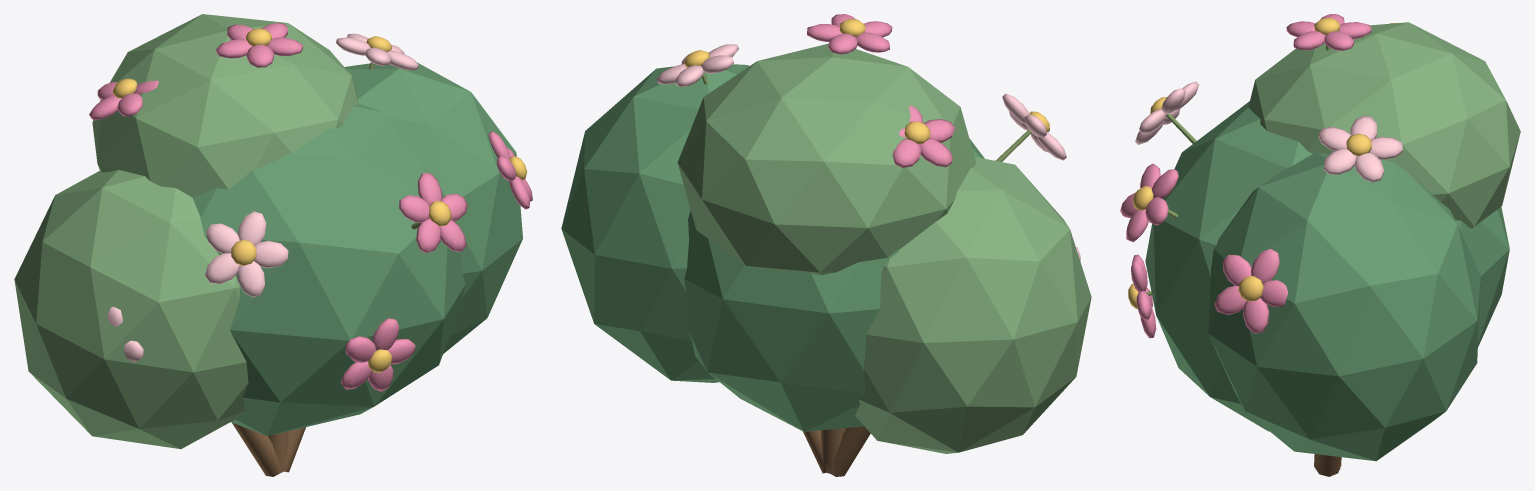
Rendered from bush_pink_flowering.glb.
The picture shows the model from 3 angles, left to right: view 1: azimuth 30°, elevation 25°; view 2: azimuth 150°, elevation 25°; view 3: azimuth 270°, elevation 25°; orthographic projection. The views are drawn at different scales.
Visible parts, largest first — view 1: Flowering_Bush_Leaf_Mass_0, Flowering_Bush_Leaf_Mass_1, Flowering_Bush_Leaf_Mass_3, Flowering_Bush_Leaf_Mass_2, Flowering_Bush_Branch_1, Flowering_Bush_Blossom_00_Petal_3, Flowering_Bush_Blossom_00_Petal_4, Flowering_Bush_Blossom_00_Petal_0, Flowering_Bush_Blossom_00_Petal_2, Flowering_Bush_Blossom_00_Petal_1, Flowering_Bush_Blossom_01_Petal_2, Flowering_Bush_Blossom_01_Petal_3 (+6 smaller); view 2: Flowering_Bush_Leaf_Mass_3, Flowering_Bush_Leaf_Mass_1, Flowering_Bush_Leaf_Mass_2, Flowering_Bush_Leaf_Mass_0, Flowering_Bush_Branch_1, Flowering_Bush_Branch_3, Flowering_Bush_Blossom_07_Petal_4, Flowering_Bush_Blossom_07_Petal_3; view 3: Flowering_Bush_Leaf_Mass_2, Flowering_Bush_Leaf_Mass_3, Flowering_Bush_Leaf_Mass_0, Flowering_Bush_Blossom_02_Petal_4, Flowering_Bush_Blossom_02_Petal_1, Flowering_Bush_Blossom_06_Petal_3, Flowering_Bush_Blossom_06_Petal_4, Flowering_Bush_Blossom_02_Petal_3, Flowering_Bush_Blossom_02_Petal_2, Flowering_Bush_Blossom_06_Petal_0, Flowering_Bush_Blossom_02_Petal_0, Flowering_Bush_Blossom_06_Petal_2 (+9 smaller).
Boxes of the visible parts, bbox=[...] form: Flowering_Bush_Leaf_Mass_0: bbox=[192, 104, 465, 435]; Flowering_Bush_Leaf_Mass_1: bbox=[14, 169, 248, 449]; Flowering_Bush_Leaf_Mass_3: bbox=[92, 14, 358, 197]; Flowering_Bush_Leaf_Mass_2: bbox=[344, 62, 522, 353]; Flowering_Bush_Branch_1: bbox=[232, 423, 282, 476]; Flowering_Bush_Blossom_00_Petal_3: bbox=[205, 253, 239, 283]; Flowering_Bush_Blossom_00_Petal_4: bbox=[237, 261, 265, 296]; Flowering_Bush_Blossom_00_Petal_0: bbox=[254, 240, 288, 268]; Flowering_Bush_Blossom_00_Petal_2: bbox=[206, 223, 239, 253]; Flowering_Bush_Blossom_00_Petal_1: bbox=[238, 211, 266, 245]; Flowering_Bush_Blossom_01_Petal_2: bbox=[399, 195, 429, 222]; Flowering_Bush_Blossom_01_Petal_3: bbox=[416, 218, 441, 253]; Flowering_Bush_Leaf_Mass_3: bbox=[677, 43, 975, 275]; Flowering_Bush_Leaf_Mass_1: bbox=[855, 157, 1091, 453]; Flowering_Bush_Leaf_Mass_2: bbox=[561, 64, 749, 382]; Flowering_Bush_Leaf_Mass_0: bbox=[684, 138, 984, 431]; Flowering_Bush_Branch_1: bbox=[826, 426, 870, 476]; Flowering_Bush_Branch_3: bbox=[821, 428, 846, 474]; Flowering_Bush_Blossom_07_Petal_4: bbox=[919, 138, 952, 167]; Flowering_Bush_Blossom_07_Petal_3: bbox=[892, 138, 921, 167]; Flowering_Bush_Leaf_Mass_2: bbox=[1208, 152, 1480, 461]; Flowering_Bush_Leaf_Mass_3: bbox=[1248, 22, 1520, 228]; Flowering_Bush_Leaf_Mass_0: bbox=[1145, 101, 1509, 431]; Flowering_Bush_Blossom_02_Petal_4: bbox=[1243, 298, 1269, 333]; Flowering_Bush_Blossom_02_Petal_1: bbox=[1251, 249, 1279, 283]; Flowering_Bush_Blossom_06_Petal_3: bbox=[1323, 148, 1356, 174]; Flowering_Bush_Blossom_06_Petal_4: bbox=[1354, 152, 1383, 182]; Flowering_Bush_Blossom_02_Petal_3: bbox=[1214, 285, 1246, 314]; Flowering_Bush_Blossom_02_Petal_2: bbox=[1223, 254, 1251, 286]; Flowering_Bush_Blossom_06_Petal_0: bbox=[1369, 136, 1402, 159]; Flowering_Bush_Blossom_02_Petal_0: bbox=[1260, 280, 1287, 307]; Flowering_Bush_Blossom_06_Petal_2: bbox=[1318, 127, 1351, 150].
Bounding box in the file's own units: 0.9671 × 0.8646 × 0.7062.
